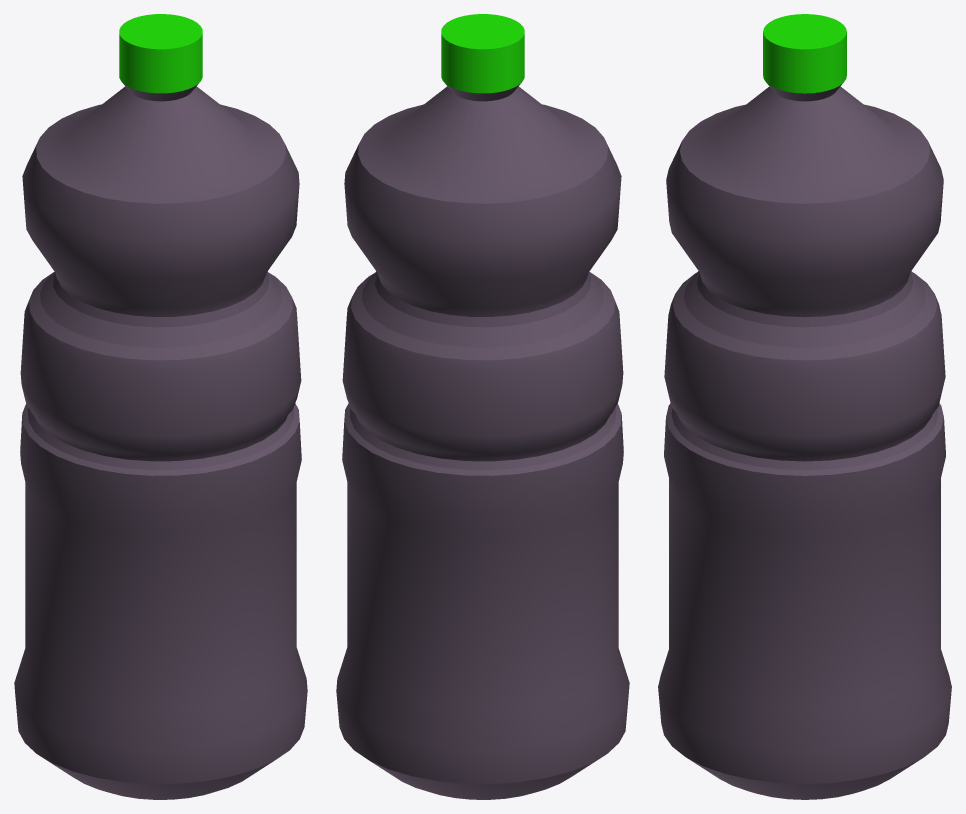
Rendered from bottle19.glb.
3 renders of one model, left to right at view 1: azimuth 30°, elevation 25°; view 2: azimuth 150°, elevation 25°; view 3: azimuth 270°, elevation 25°, orthographic.
Visible parts, largest first — view 1: Bottle19; view 2: Bottle19; view 3: Bottle19.
Boxes of the visible parts, <box> form: Bottle19: <box>14,14,307,799</box>; Bottle19: <box>336,14,629,799</box>; Bottle19: <box>658,14,951,799</box>.
Bounding box in the file's own units: 1.43 × 3.93 × 1.43.
